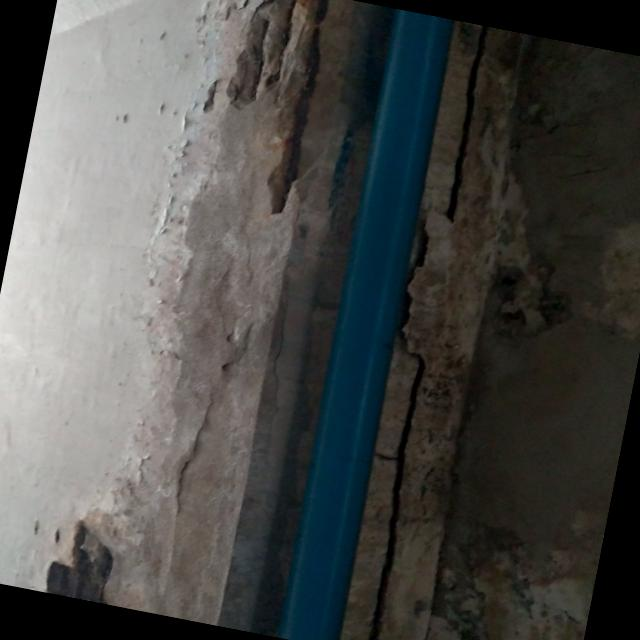gas: (267, 7, 464, 640)
